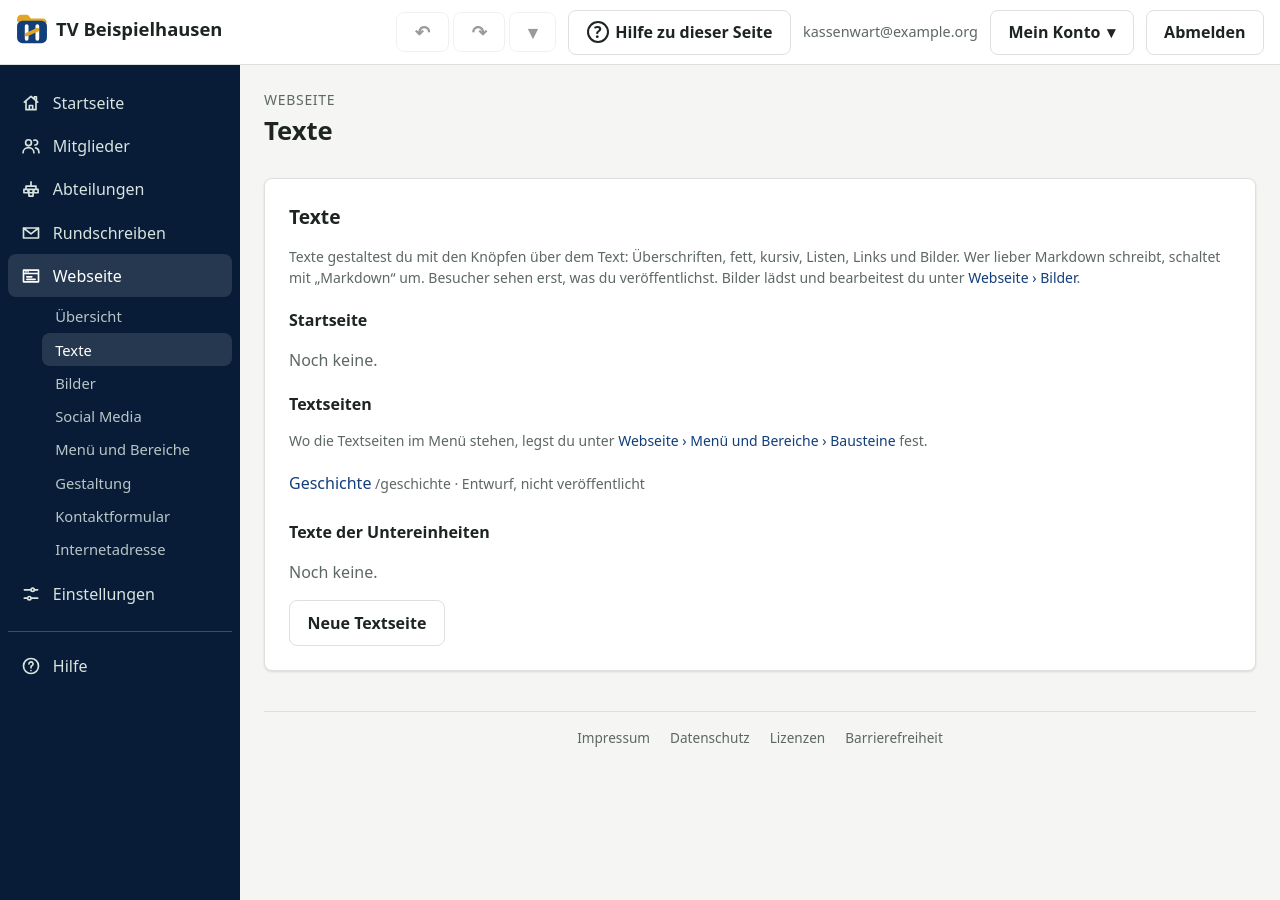
Test: Inhalte der Webseite › öffnet eine Textseite und veröffentlicht sie
expect the text "· Entwurf, nicht veröffentlicht" is shown: met, box [451,474,645,493]
Click the button "Geschichte" at (330, 483), box [289,471,371,495]
(page scrolled)
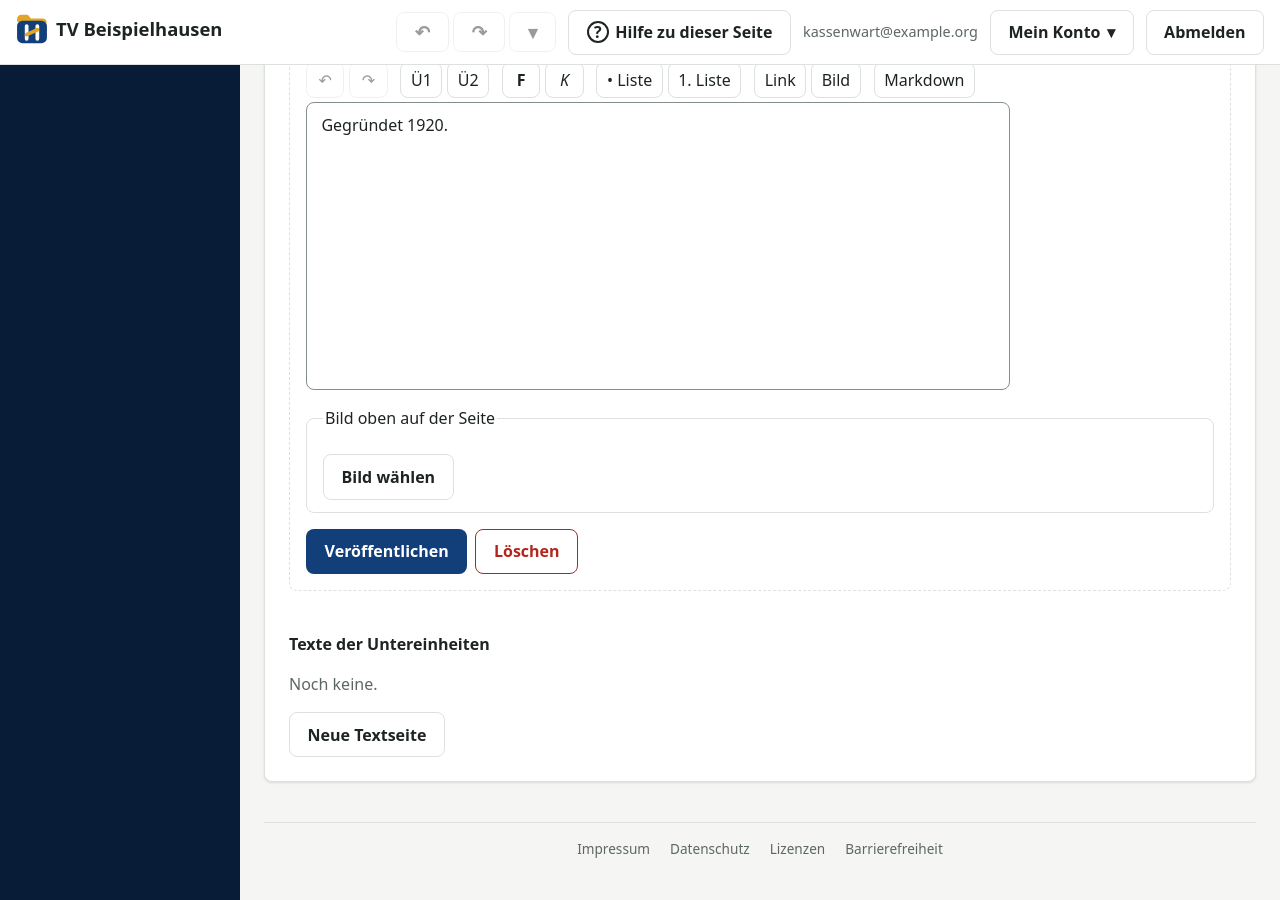
expect the field named "Text" reads "Gegründet 1920.": met, box [306,102,1010,390]
Click the button "Veröffentlichen" at (387, 551), box [306,528,467,574]
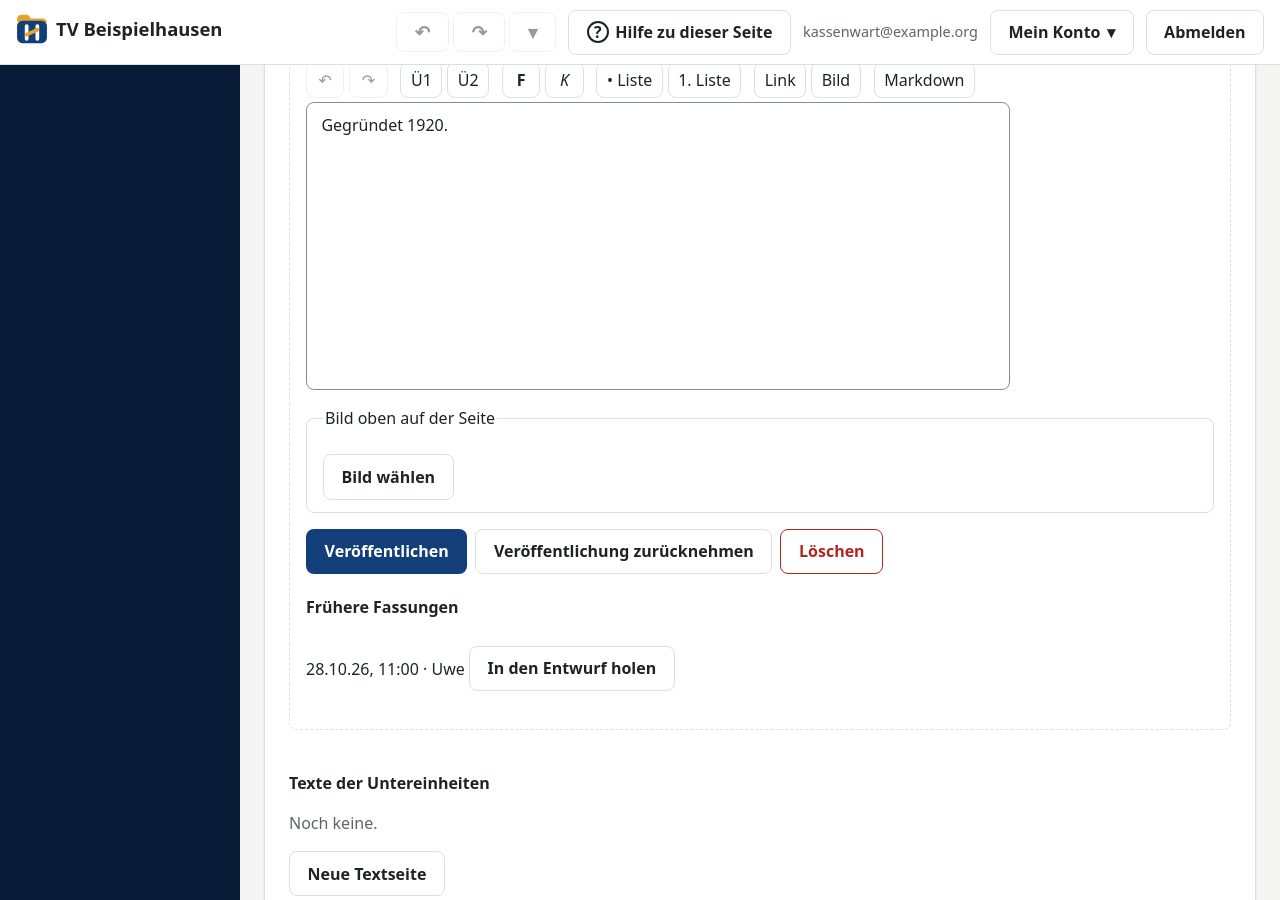
expect the heading "Frühere Fassungen" is shown: met, box [306,596,459,618]
